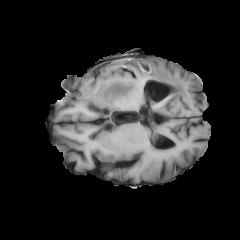glioma: (84, 57, 188, 105)
